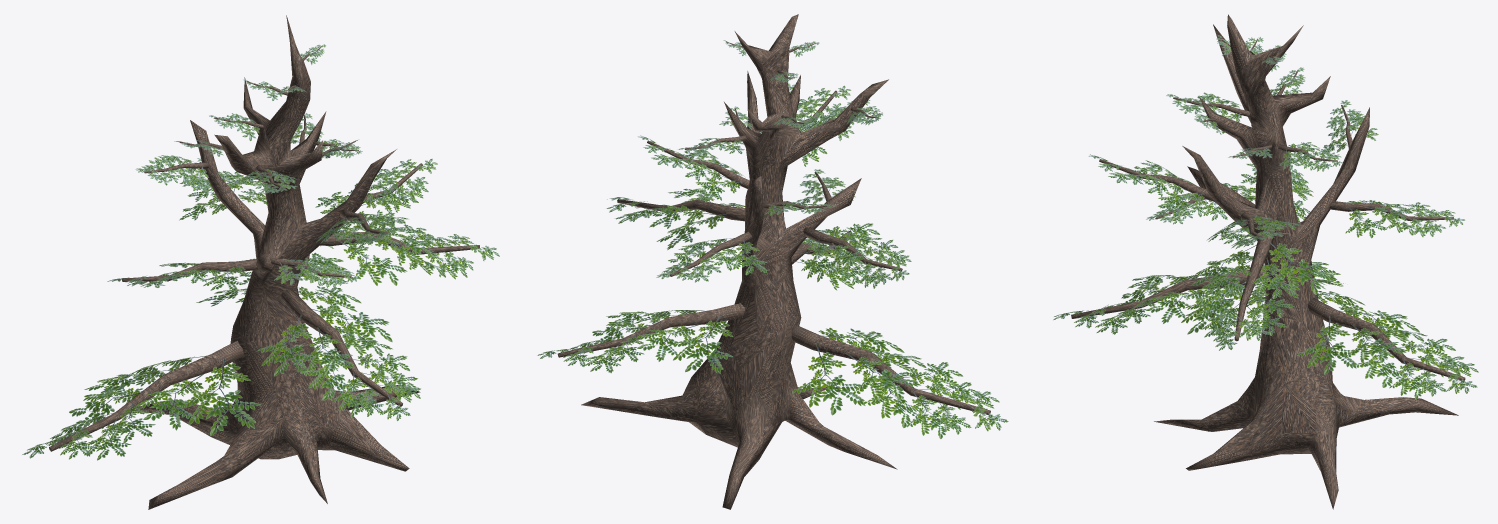
The model's file is tree2.glb.
3 renders of one model, left to right at view 1: azimuth 30°, elevation 25°; view 2: azimuth 150°, elevation 25°; view 3: azimuth 270°, elevation 25°, orthographic. The views are drawn at different scales.
Visible parts, largest first — view 1: Cylinder.001; view 2: Cylinder.001; view 3: Cylinder.001.
Part boxes in pixels (bbox=[...]): Cylinder.001: bbox=[22, 15, 499, 509]; Cylinder.001: bbox=[537, 14, 1008, 509]; Cylinder.001: bbox=[1053, 14, 1478, 509].
Bounding box in the file's own units: 0.658 × 0.6041 × 0.5553.
2 materials, 2 textured.
